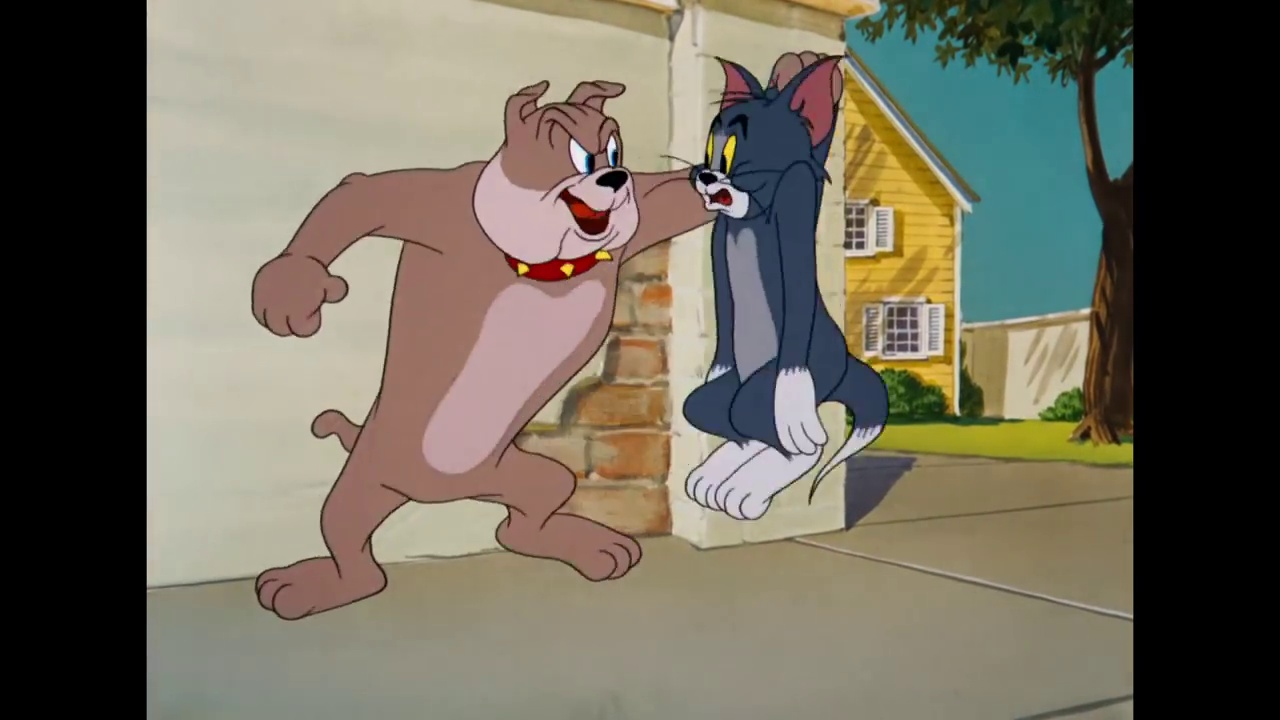spike: (472, 79, 646, 288)
tom: (684, 50, 842, 226)
